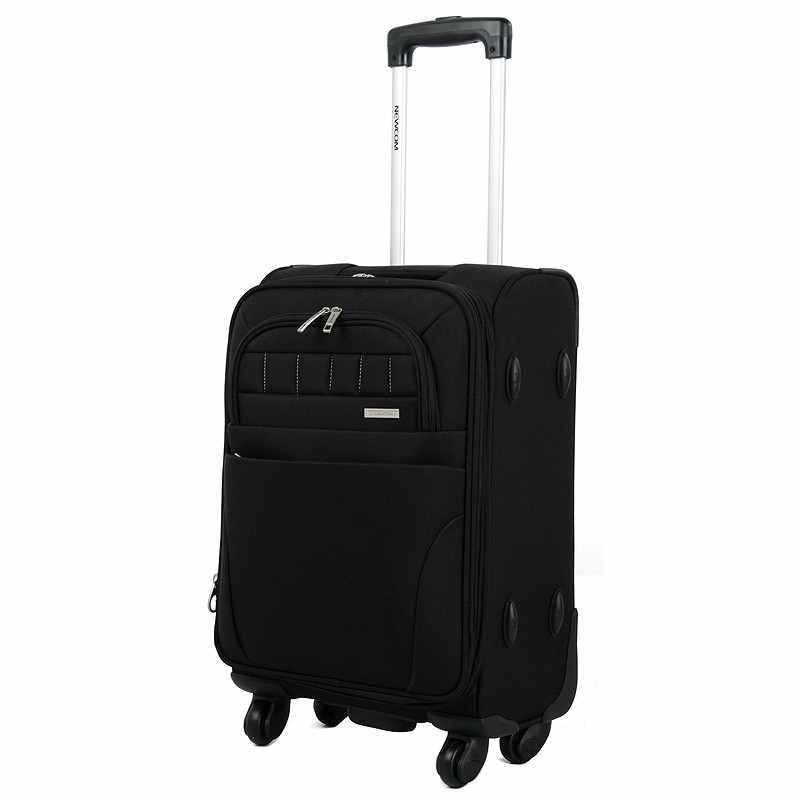box: (213, 265, 578, 727)
wheel: (436, 731, 489, 788), (499, 717, 552, 765), (244, 699, 291, 746), (312, 698, 348, 727)
